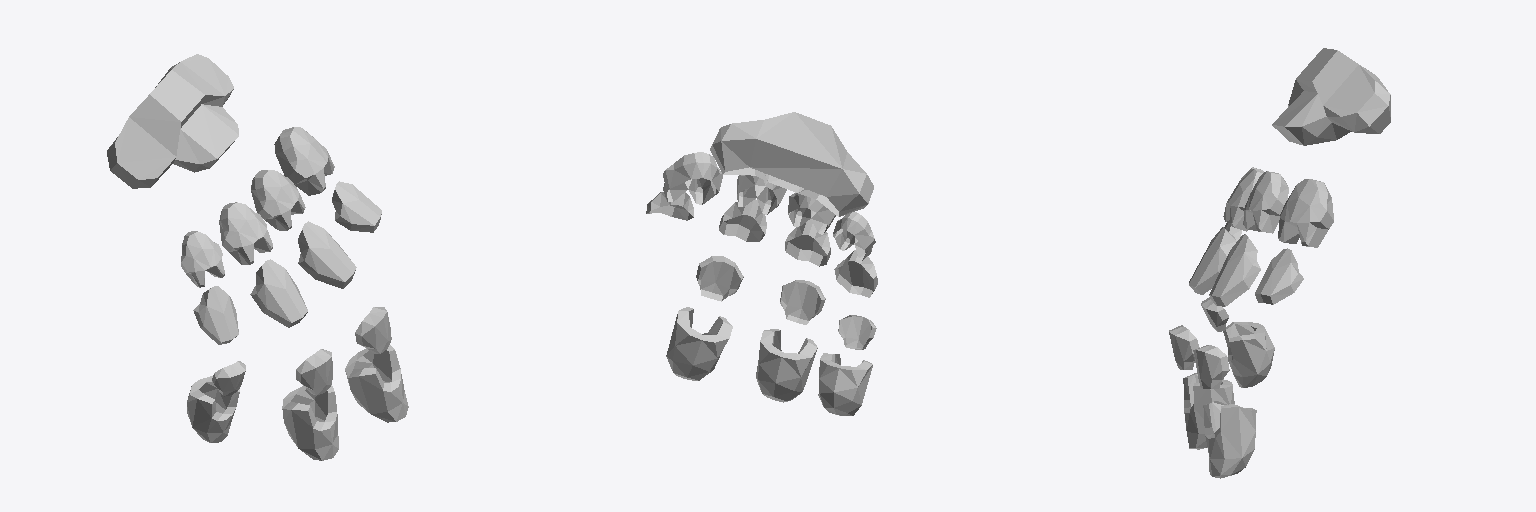
Rendered from Outer-Plated Right Hand MALE.obj.
The picture shows the model from 3 angles: view 1: azimuth 30°, elevation 25°; view 2: azimuth 150°, elevation 25°; view 3: azimuth 270°, elevation 25°; orthographic projection.
Visible parts, largest first — view 1: armor_arms_stealth.001; view 2: armor_arms_stealth.001; view 3: armor_arms_stealth.001.
Part boxes in pixels (bbox=[...]): armor_arms_stealth.001: bbox=[107, 54, 408, 460]; armor_arms_stealth.001: bbox=[646, 112, 877, 415]; armor_arms_stealth.001: bbox=[1169, 48, 1390, 478].
Bounding box in the file's own units: 5.3 × 7.36 × 4.15.